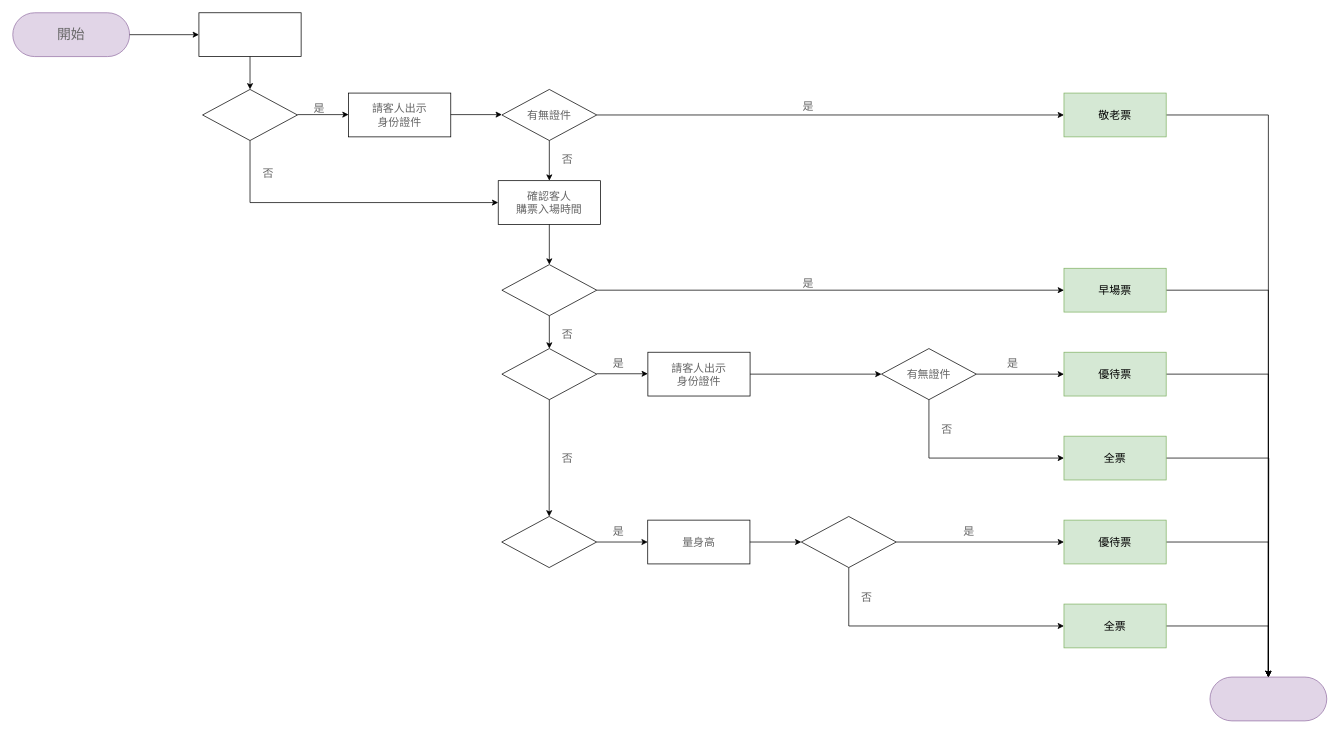
This 1340x734 diagram has some shape labels left out. Each missing label, with the centre of its shape:
"是否上午 12點前" belongs at [549,290].
"是否低於 110cm" belongs at [848,542].
"是否為 孩童" belongs at [549,542].
"是否為 學生、軍警" belongs at [549,374].
"是否為敬老票" belongs at [249,115].
"結束" belongs at [1268,698].
"詢問要購買 哪一種電影票" belongs at [249,34].
